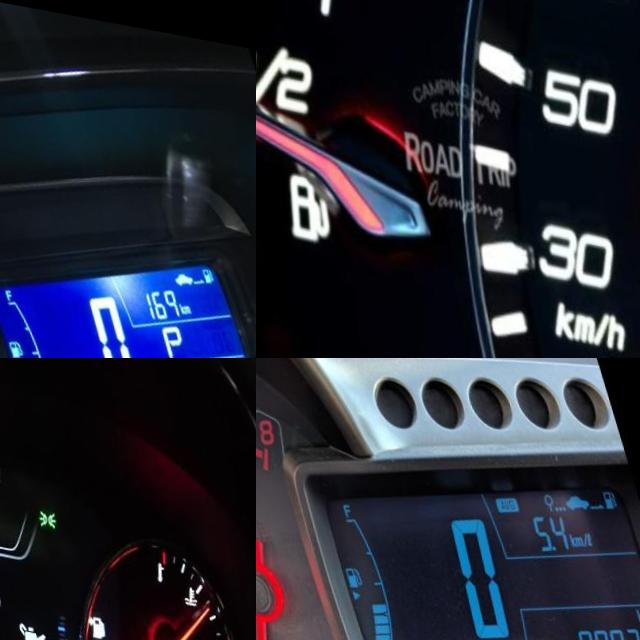SideLamp: (33, 493, 51, 513)
